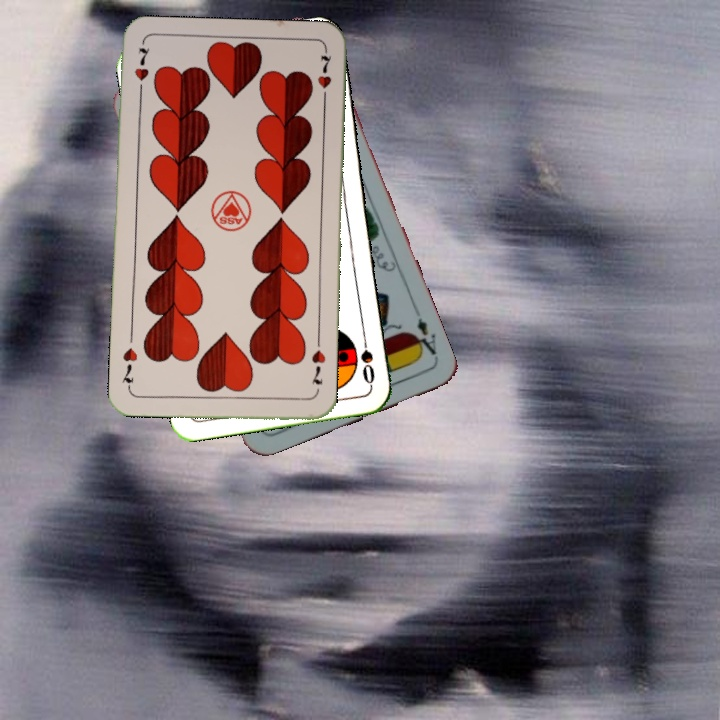EA: (407, 313, 441, 363)
H7: (131, 44, 152, 100), (307, 346, 328, 387)
SO: (356, 328, 378, 387)
